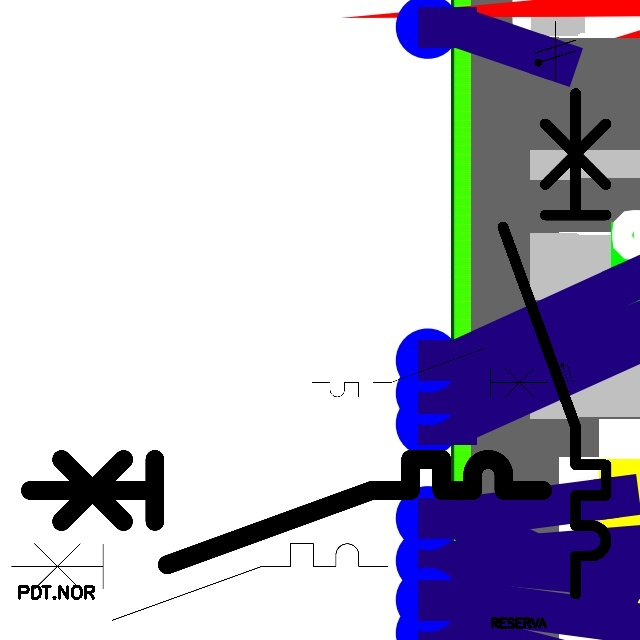interruptor_termomagnetico: (17, 446, 556, 578), (490, 80, 619, 607), (2, 534, 397, 630), (306, 342, 554, 403)
